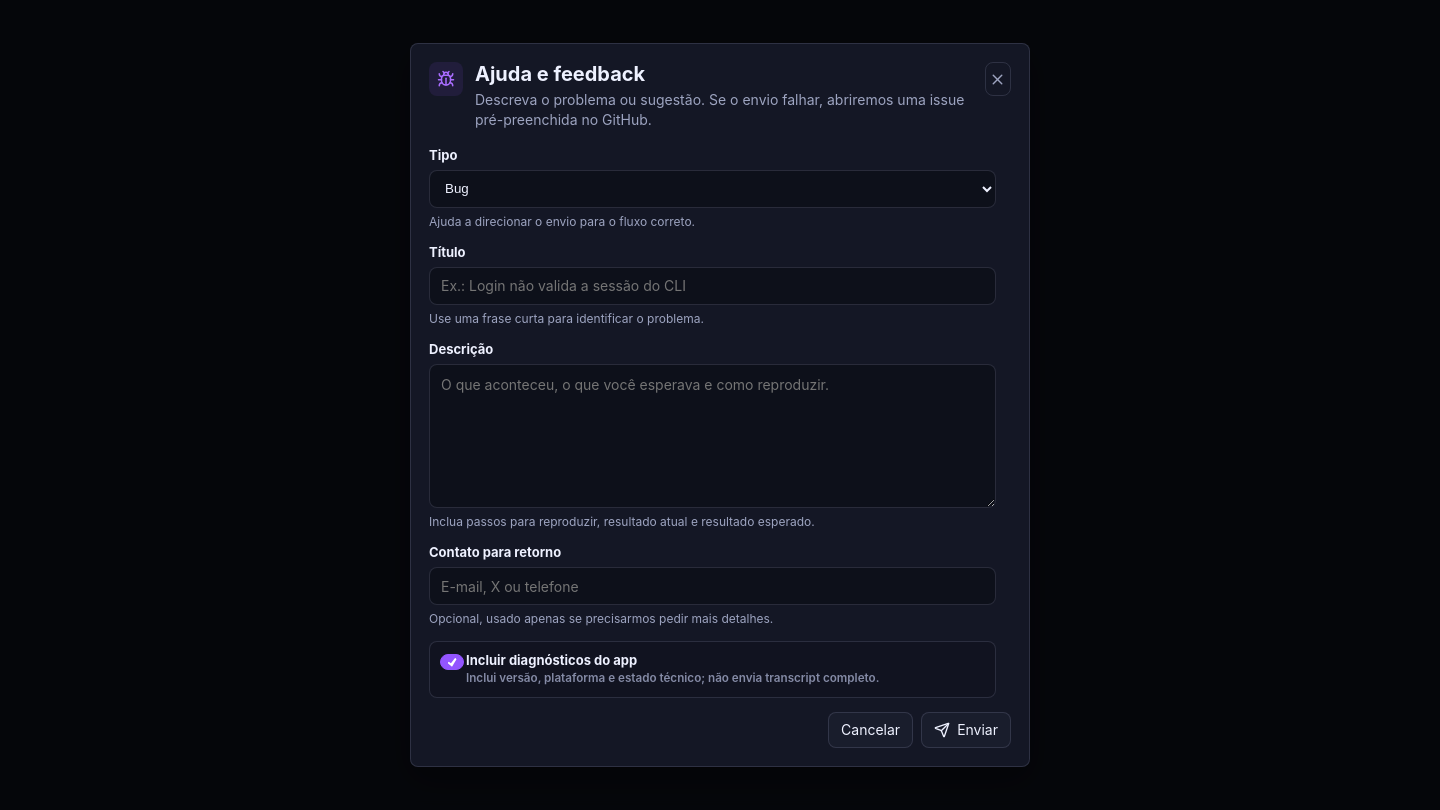
Test: FeedbackDialog — fallback to GitHub issue (code-driven, provider-neutral) › pt-BR: supabase_failed + error renders provider-neutral fallback and warning
The width and height of the screenshot is (1440, 810).
Type "Something broke" into the field labelled "Título".
click(712, 286); type("Something broke")  # box [429,267,996,305]
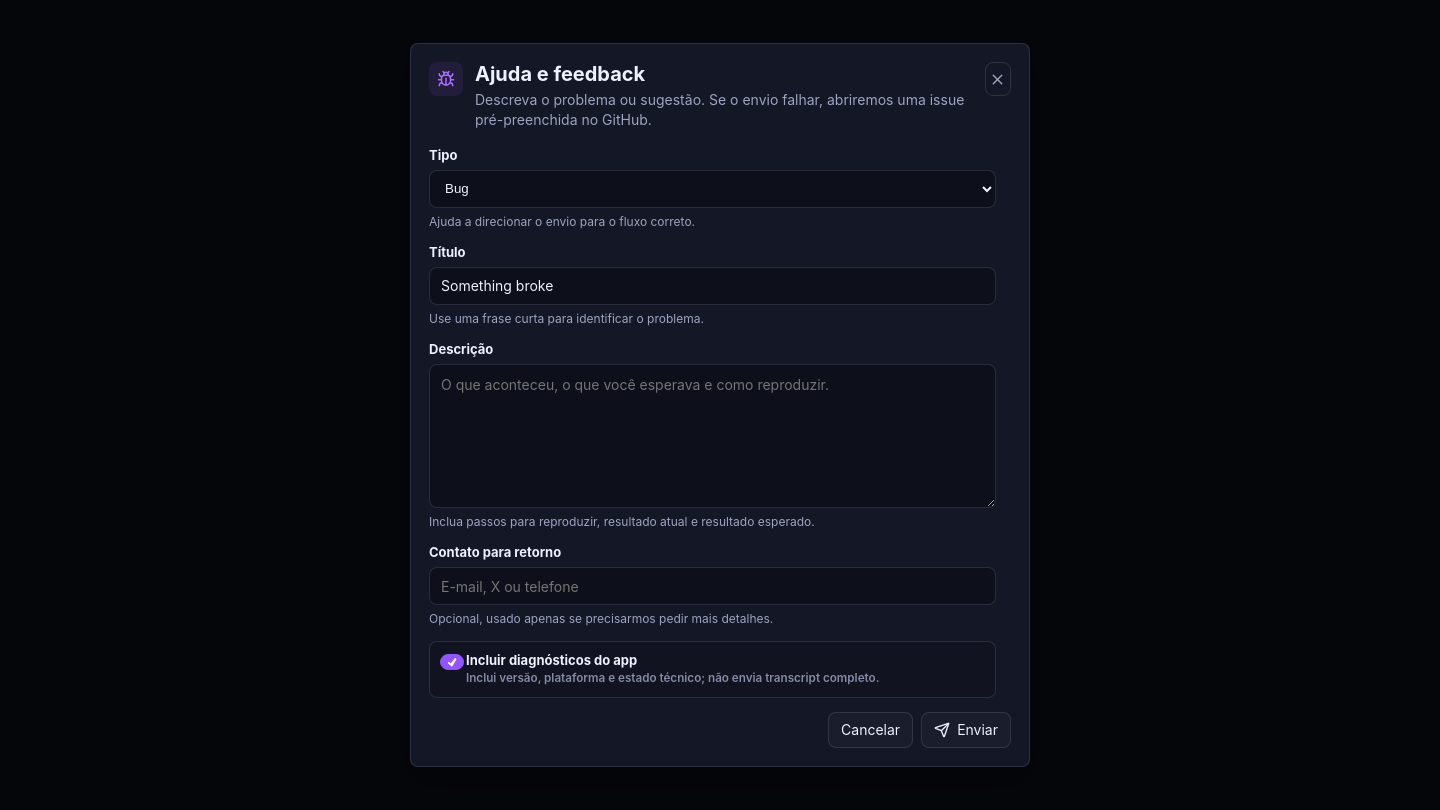
Type "It failed in a reproducible way" into the text box labelled "Descrição".
click(712, 436); type("It failed in a reproducible way")  # box [429,364,996,508]
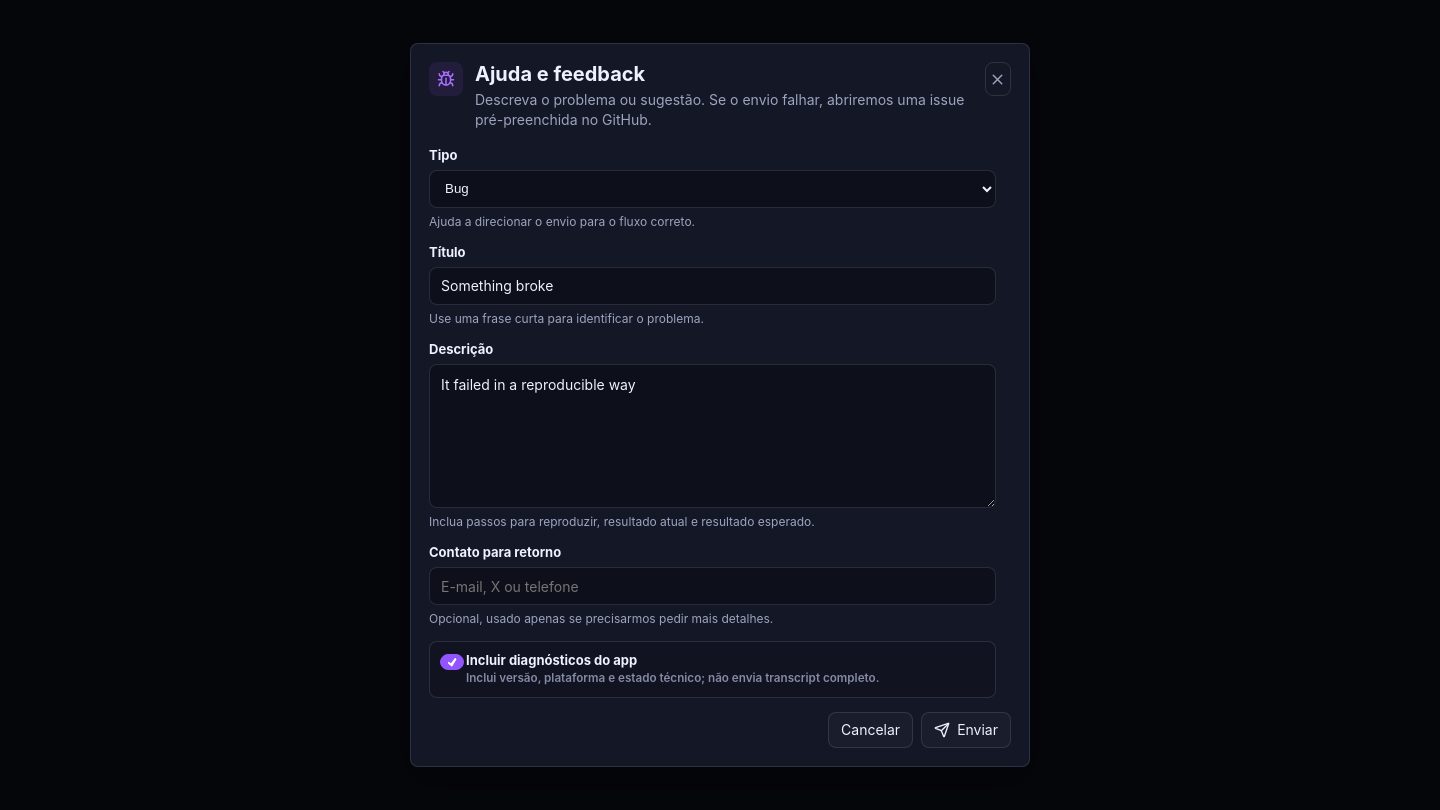
Click the button "Enviar".
click(966, 730)  # box [921,712,1011,748]
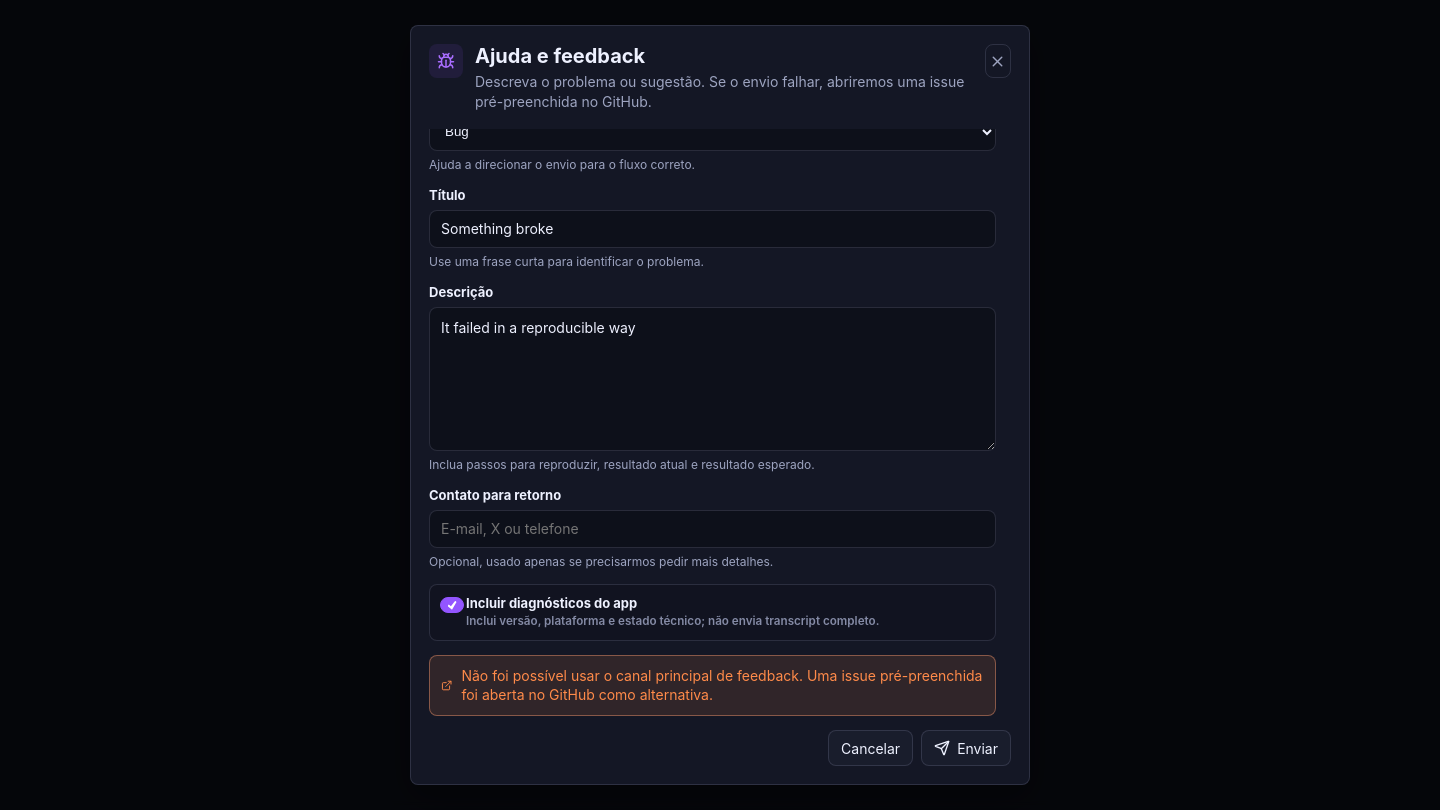
expect the text "Não foi possível usar o canal principal de feedback. Uma issue pré-preenchida foi aberta no GitHub como alternativa" is shown: met, box [461,667,982,704]
